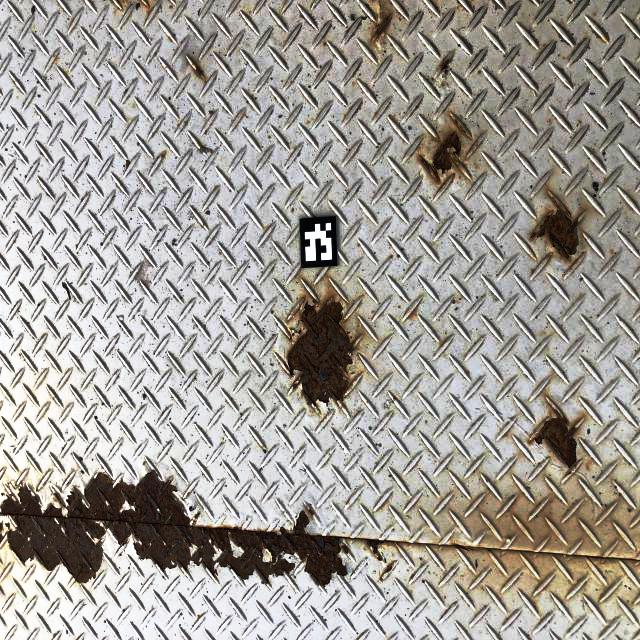Corrosion: (0, 468, 349, 588), (283, 290, 358, 411), (417, 114, 479, 193), (526, 191, 584, 272), (529, 400, 582, 478), (368, 0, 393, 48), (364, 539, 401, 564), (436, 56, 452, 80), (138, 0, 153, 16), (380, 564, 393, 582), (192, 64, 205, 80), (407, 303, 419, 319), (451, 544, 473, 552), (117, 0, 127, 11), (188, 505, 196, 512), (484, 548, 494, 552), (602, 38, 608, 44), (502, 431, 508, 437), (185, 491, 191, 496), (161, 154, 165, 159), (392, 397, 397, 400), (578, 121, 582, 124), (542, 44, 545, 48), (324, 41, 326, 46)
